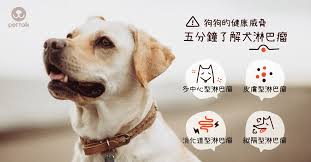dog: (43, 8, 169, 118)
